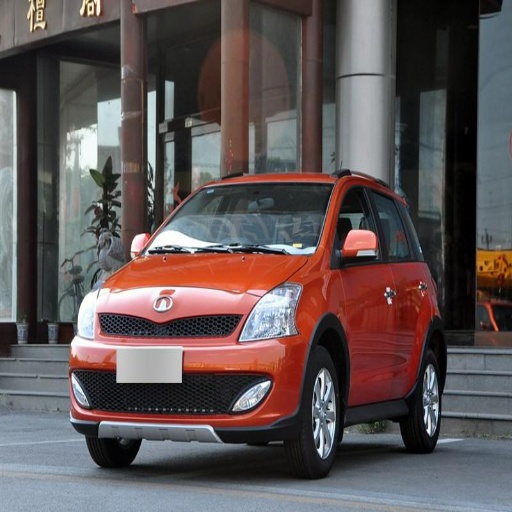back_left_door: (369, 182, 429, 395)
front_bumper: (71, 299, 310, 440)
front_glass: (173, 182, 332, 254)
front_left_door: (332, 179, 398, 403)
trunk: (75, 334, 157, 367)
